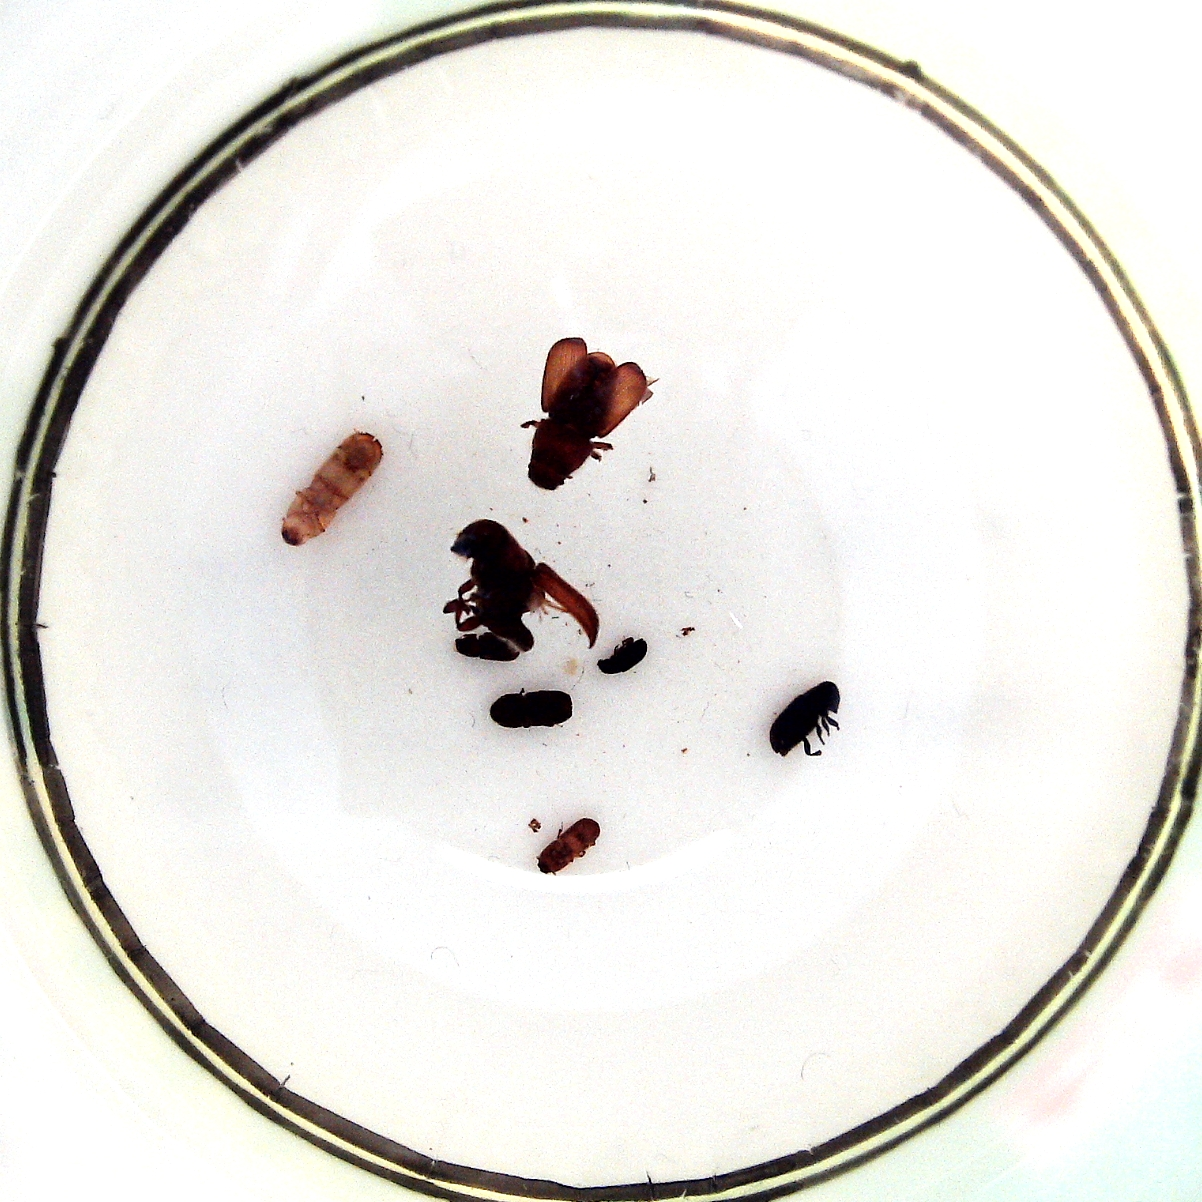Boerner: (281, 431, 383, 547)
Leconte: (529, 352, 614, 490), (450, 518, 535, 652)
acuminatus: (454, 632, 520, 662), (597, 638, 648, 674)
armandi: (769, 679, 842, 757)
coleoptera: (538, 817, 600, 875)
linnaeus: (489, 690, 572, 728)
